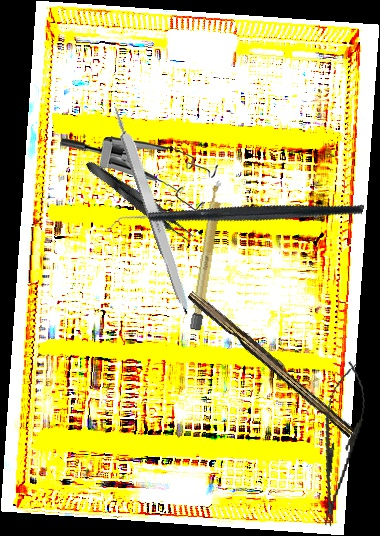Chopper: (105, 130, 366, 308)
Needle Holder: (307, 358, 373, 531)
Scalpel Handle: (184, 287, 360, 438), (109, 101, 197, 318), (189, 178, 226, 332)
Speculum: (60, 134, 219, 213)
Tissue Forceps: (82, 155, 197, 247)
